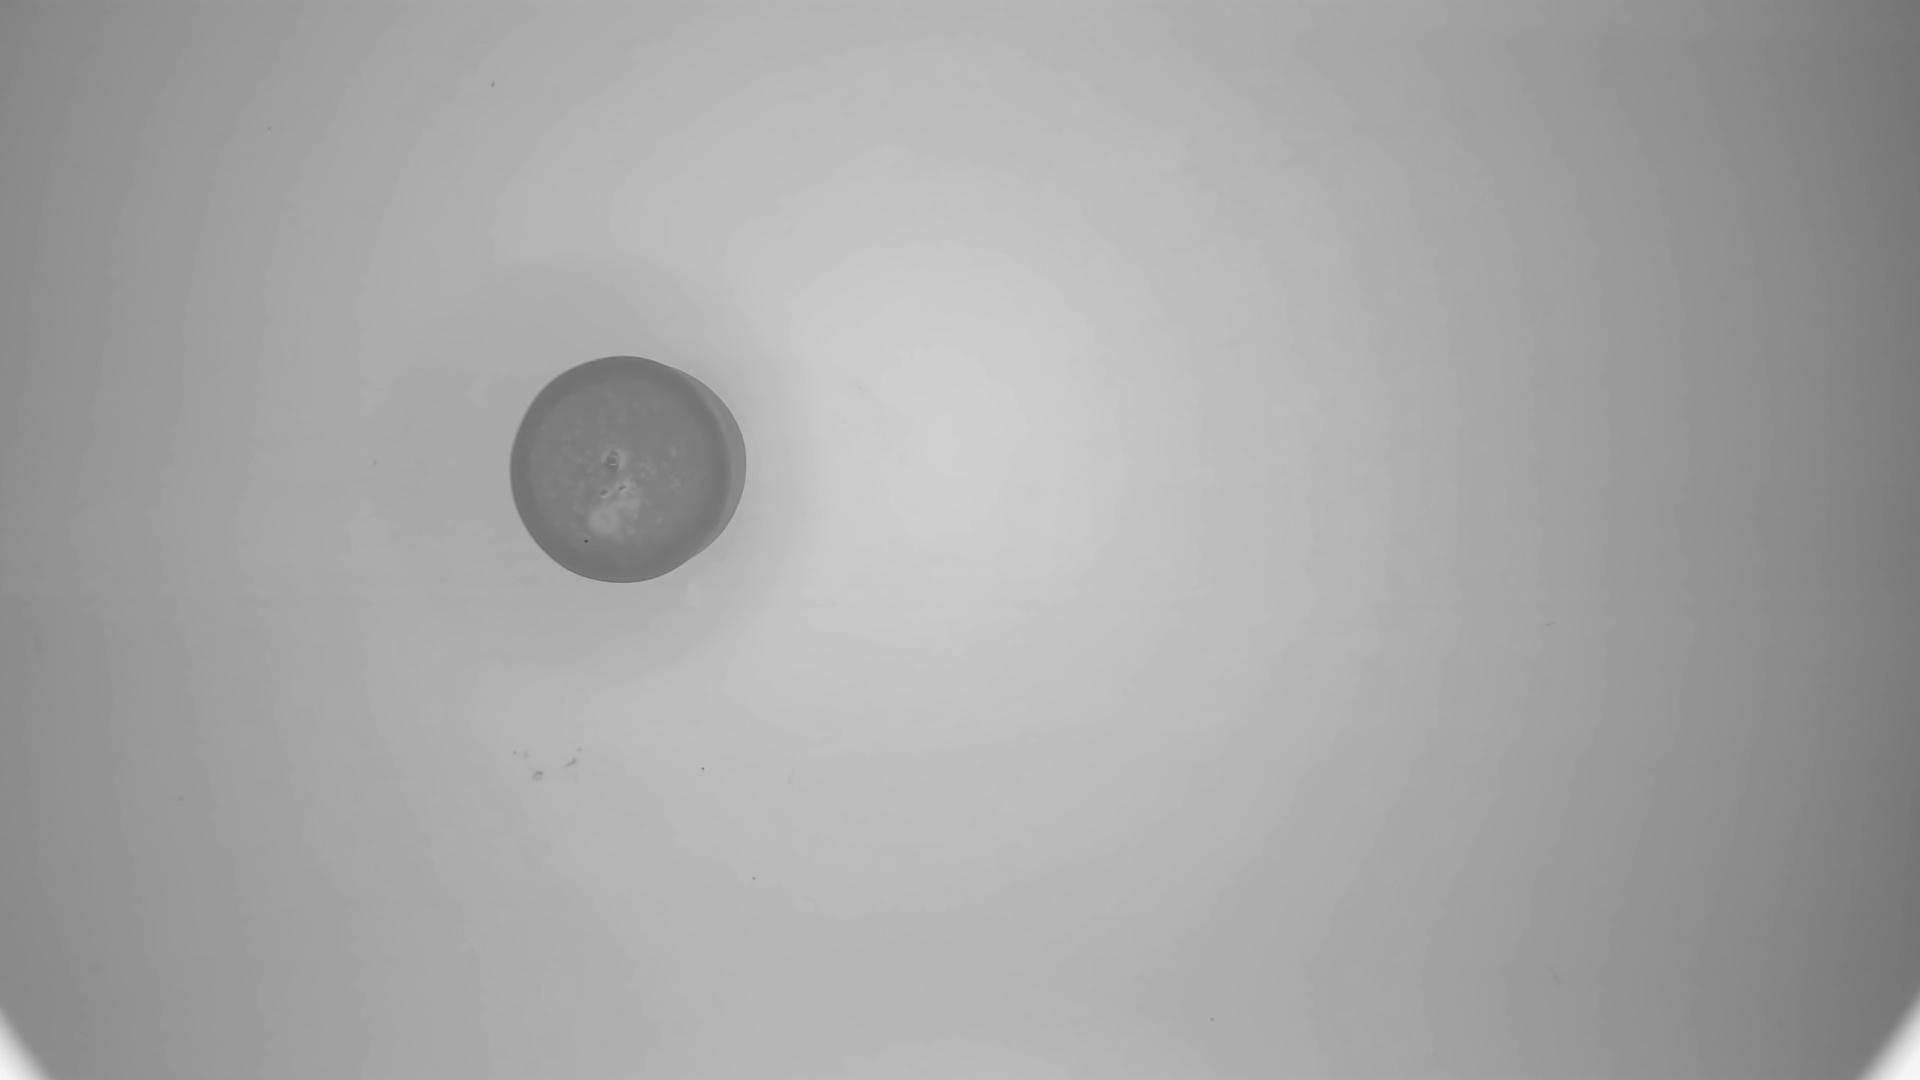abnormal: (508, 353, 752, 585)
